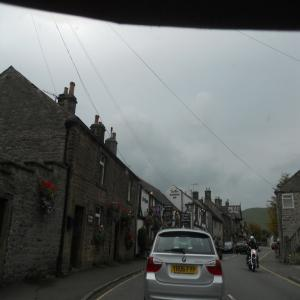Vehicle-registration-plate: (172, 264, 199, 276)
